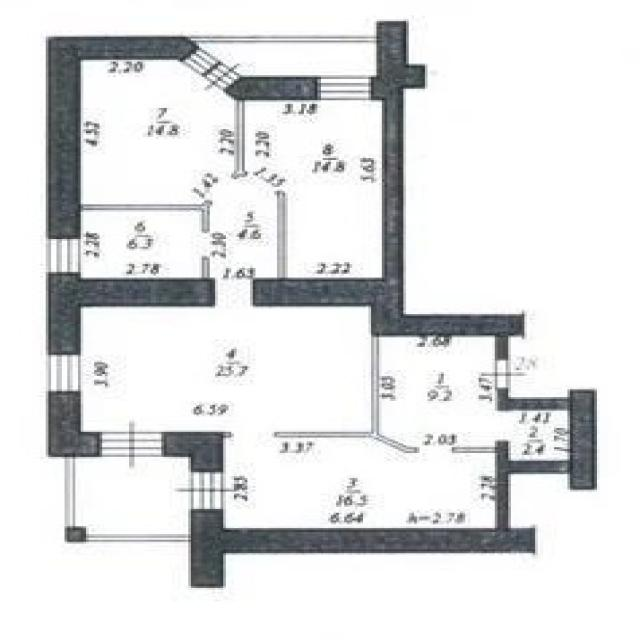Corridors: (76, 457, 189, 532), (209, 177, 274, 278), (196, 43, 377, 76), (509, 410, 569, 461)
Doors: (99, 420, 164, 471), (173, 471, 238, 509), (198, 59, 244, 93), (480, 359, 530, 388), (213, 277, 252, 307), (205, 175, 236, 203), (246, 172, 287, 191), (495, 410, 508, 440), (232, 432, 275, 438), (417, 447, 454, 453), (202, 231, 209, 259)
LBwalls: (46, 36, 198, 239), (190, 508, 537, 589), (252, 278, 527, 338), (46, 271, 218, 356), (370, 20, 427, 100), (381, 98, 405, 277), (46, 390, 101, 457), (569, 390, 598, 491), (162, 431, 224, 473), (222, 76, 320, 102), (496, 398, 569, 411), (507, 461, 568, 474), (64, 526, 87, 542)
Offices: (83, 307, 368, 431), (245, 101, 382, 278), (225, 439, 495, 528), (81, 59, 235, 204), (379, 336, 495, 447), (82, 211, 201, 279)
Walls: (274, 336, 419, 455), (82, 199, 215, 233), (230, 102, 248, 180), (495, 439, 510, 528), (276, 190, 287, 277), (188, 37, 377, 42), (89, 534, 191, 542), (64, 456, 75, 527), (494, 336, 509, 359), (453, 446, 495, 453), (201, 257, 210, 278), (494, 388, 510, 398)
Windows: (46, 354, 81, 392), (317, 76, 372, 100), (46, 239, 80, 273), (182, 47, 221, 75)
